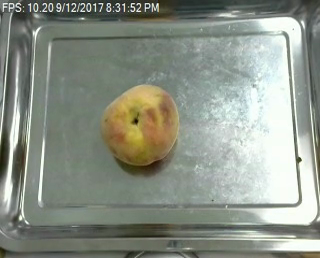Peach: (100, 83, 180, 166)
